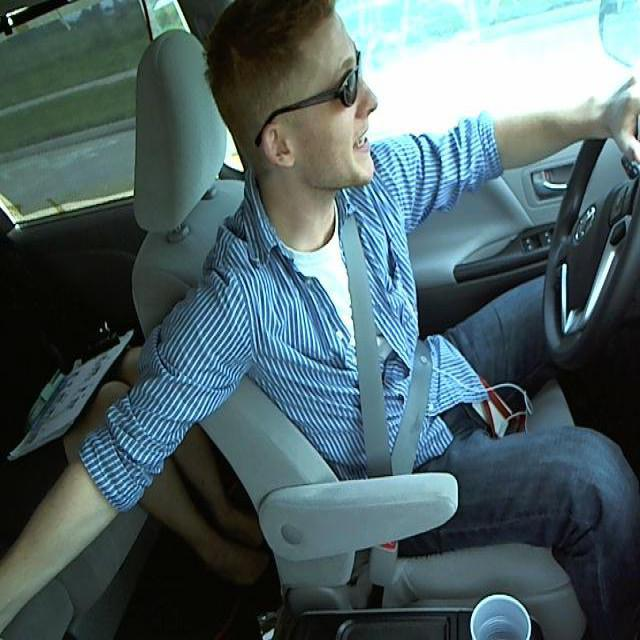seatbelt: (322, 238, 443, 462)
